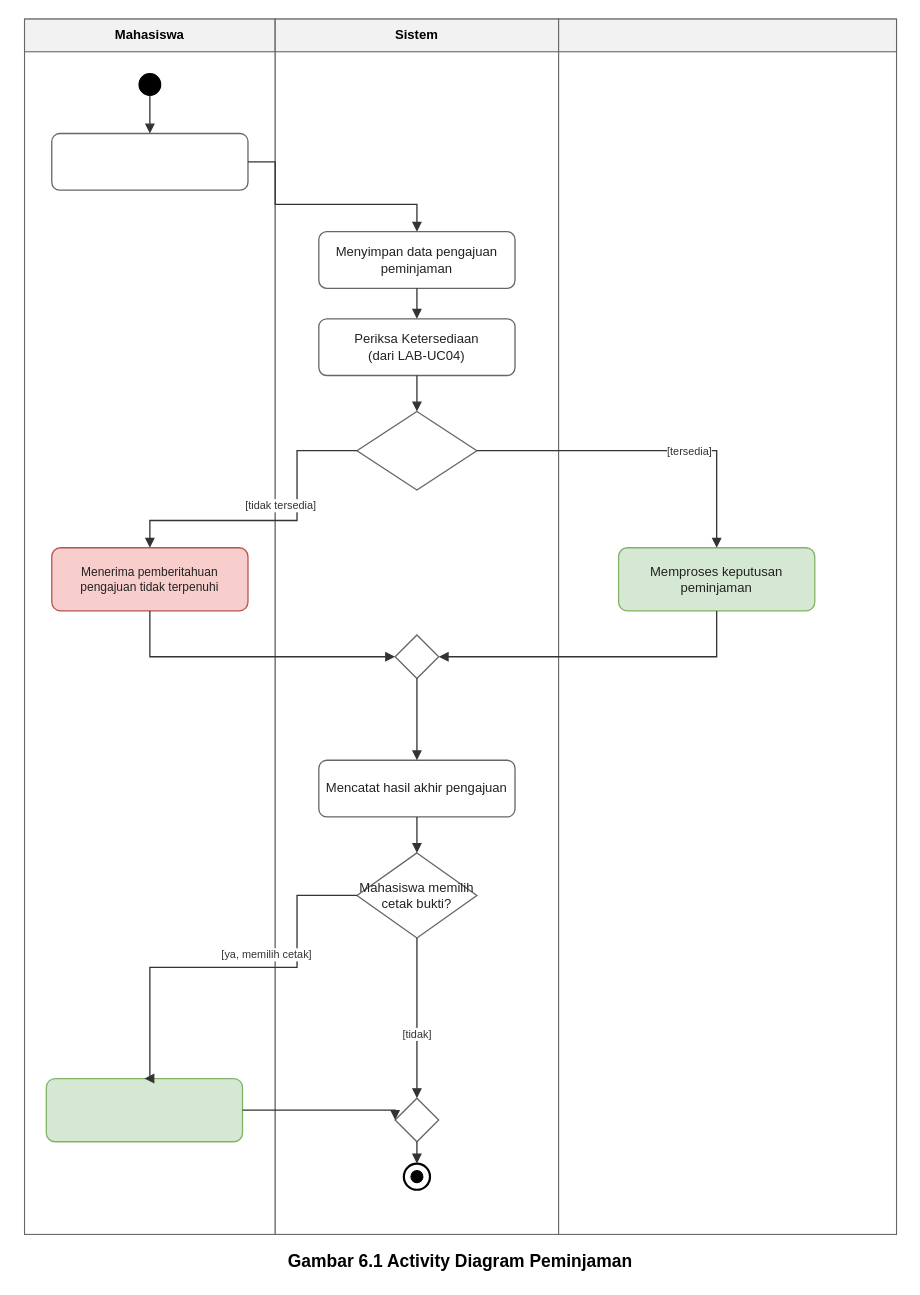
The diagram is 920 pixels wide and 1295 high, and some of its shapes have lost their labels. The centre of each missing label's shape, as x and y in pixels:
Cetak Bukti Pengajuan (dari LAB-UC05): pixel 144 1109
Mengisi formulir pengajuan peminjaman: pixel 149 161
Peralatan tersedia?: pixel 416 450
Petugas Laboratorium: pixel 727 35
